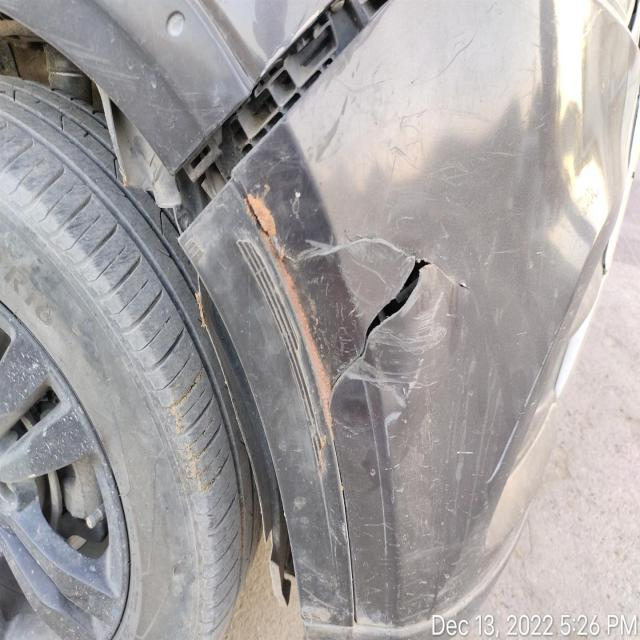damage: (165, 0, 389, 242), (243, 94, 343, 624), (277, 209, 463, 446)
